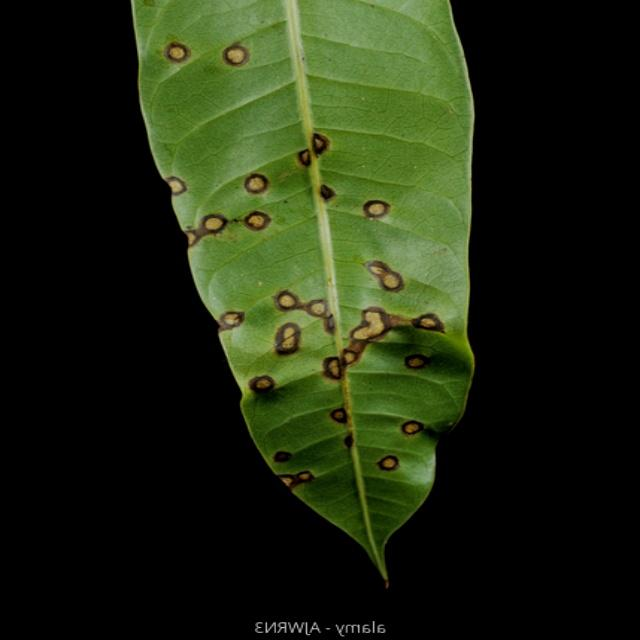leaf_spot: (133, 0, 500, 597)
